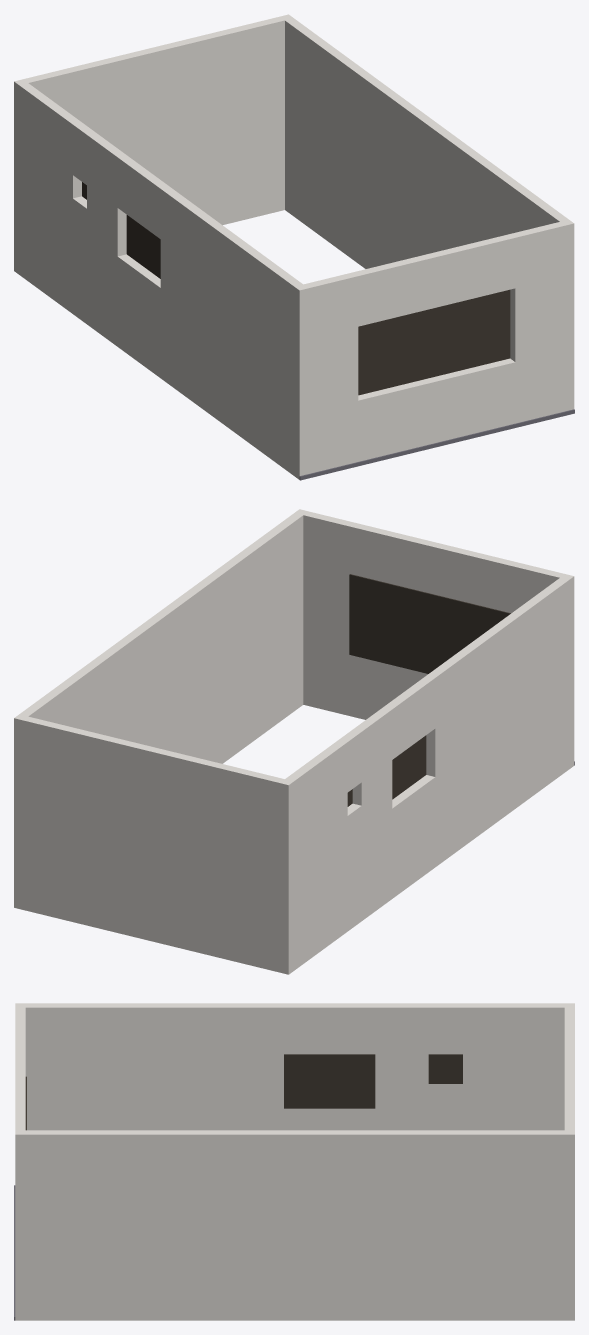
The model's file is SM_Floor_NarrowUpperWindowEndL_White_455_01.gltf.
3 renders of one model, top to bottom at view 1: azimuth 30°, elevation 25°; view 2: azimuth 150°, elevation 25°; view 3: azimuth 270°, elevation 25°, orthographic. The views are drawn at different scales.
Parts seen in each view (by area): view 1: SM_Floor_NarrowUpperWindowEndL_White_455_01; view 2: SM_Floor_NarrowUpperWindowEndL_White_455_01; view 3: SM_Floor_NarrowUpperWindowEndL_White_455_01.
Part boxes in pixels (x1,y1,x2,y2): SM_Floor_NarrowUpperWindowEndL_White_455_01: (14,14,574,480); SM_Floor_NarrowUpperWindowEndL_White_455_01: (14,509,574,974); SM_Floor_NarrowUpperWindowEndL_White_455_01: (14,1003,574,1320).
Bounding box in the file's own units: 4.55 × 3 × 8.21.
1 material, 1 textured.
